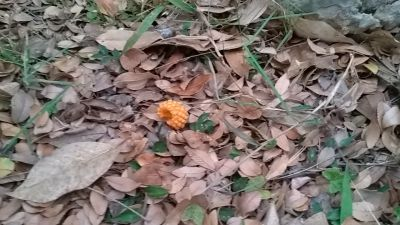eggs: (156, 98, 190, 129)
